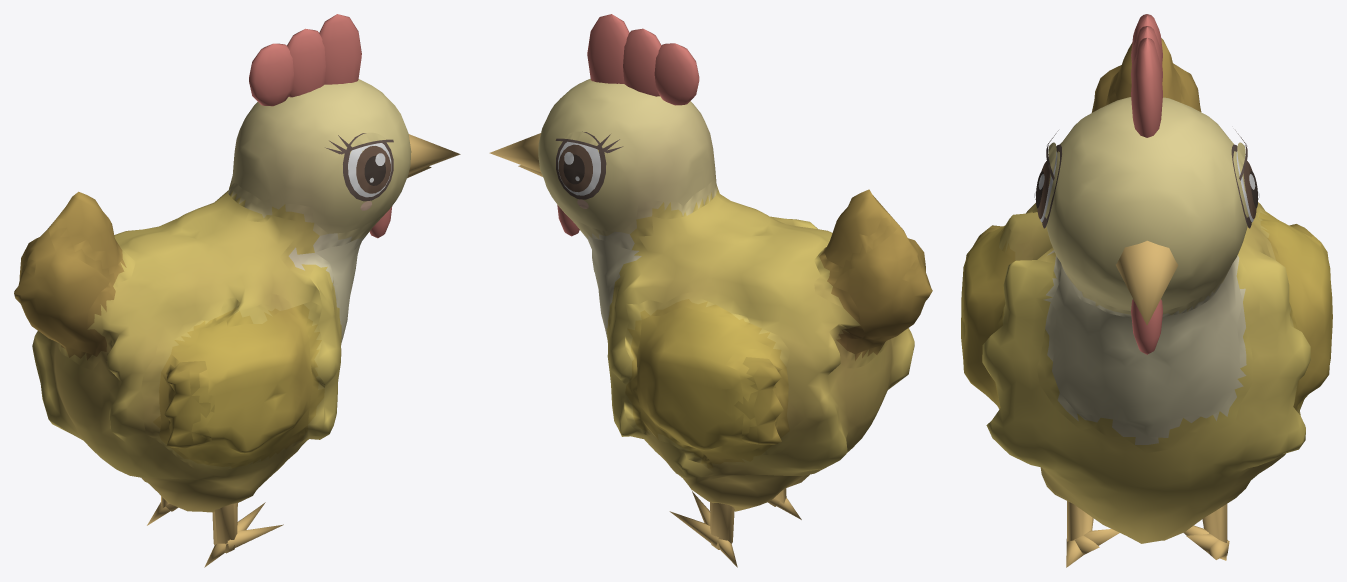
File: golden_chicken.glb
3 renders of one model, left to right at view 1: azimuth 30°, elevation 25°; view 2: azimuth 150°, elevation 25°; view 3: azimuth 270°, elevation 25°, orthographic. The views are drawn at different scales.
Parts seen in each view (by area): view 1: golden_chicken; view 2: golden_chicken; view 3: golden_chicken.
Part boxes in pixels (x1,y1,x2,y2): golden_chicken: [14, 14, 460, 567]; golden_chicken: [489, 14, 932, 567]; golden_chicken: [961, 14, 1332, 567].
Size of the model in its own units: 0.5326 by 0.5654 by 0.3072.
